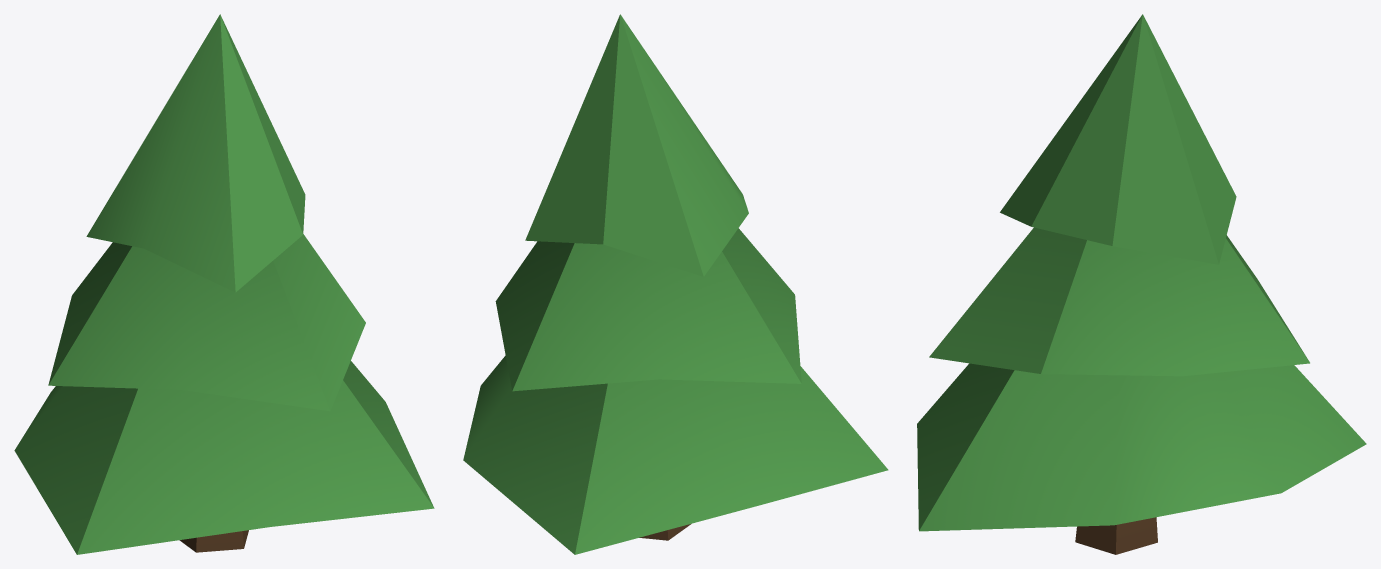
Rendered from tree-2.glb.
3 views of the same model, side by side, from view 1: azimuth 30°, elevation 25°; view 2: azimuth 150°, elevation 25°; view 3: azimuth 270°, elevation 25° (orthographic). The views are drawn at different scales.
Parts seen in each view (by area): view 1: tree; view 2: tree; view 3: tree.
Part boxes in pixels (bbox=[...]): tree: bbox=[14, 14, 434, 554]; tree: bbox=[463, 14, 888, 554]; tree: bbox=[917, 14, 1366, 554].
Bounding box in the file's own units: 0.7471 × 1.02 × 0.7811.
